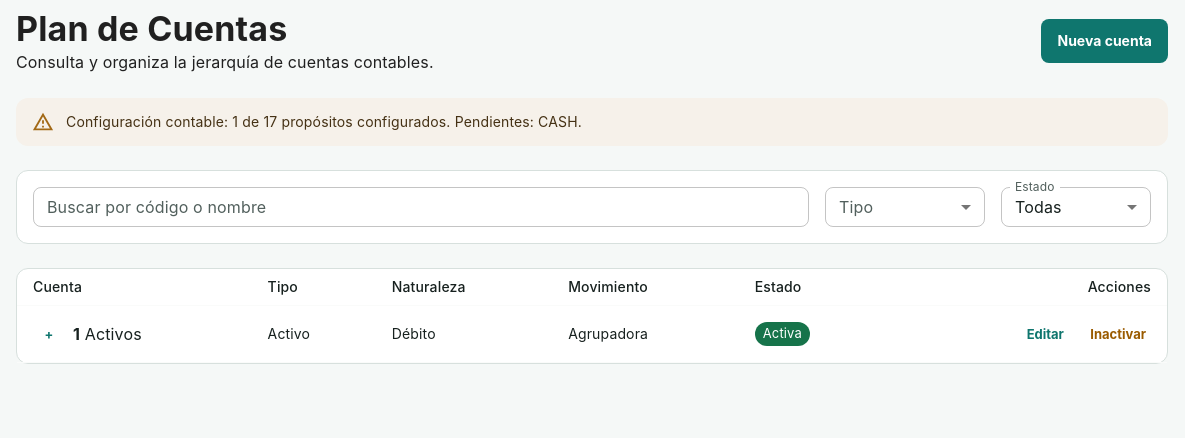
Scenario: Configuración contable › muestra jerarquía, expande cuentas y advierte propósitos pendientes
Check: the text "1 de 17 propósitos configurados" is shown, box [66, 113, 582, 130]
Check: the text "Disponible" is not shown
Click the button named "Expandir 1" at (49, 334), box [33, 312, 65, 356]
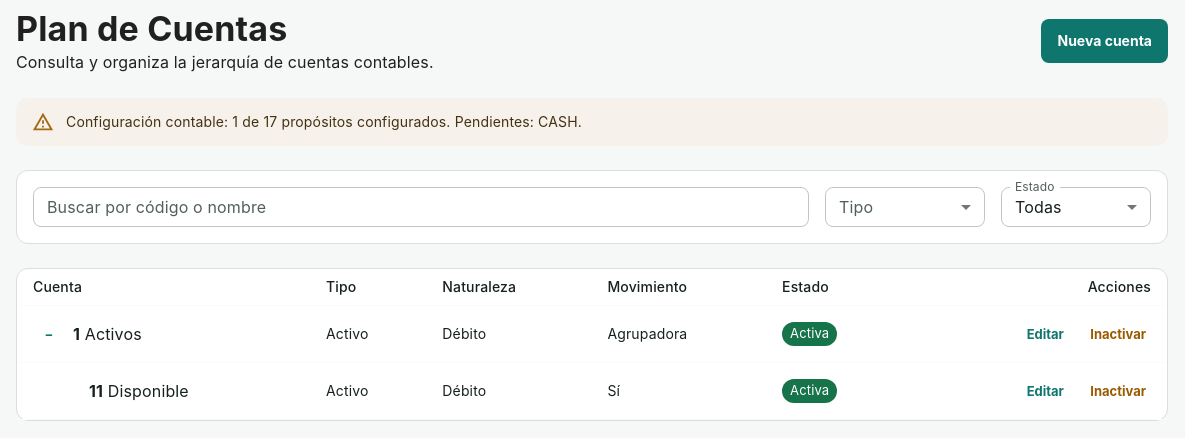
Check: the text "Disponible" is shown, box [108, 381, 189, 401]
